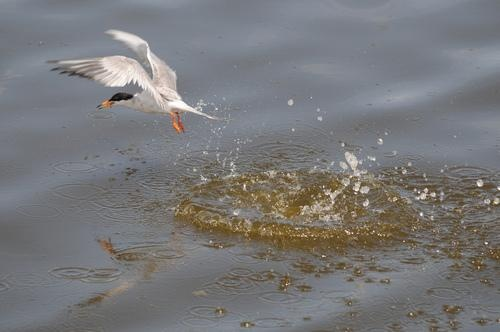bird: (41, 29, 226, 130)
